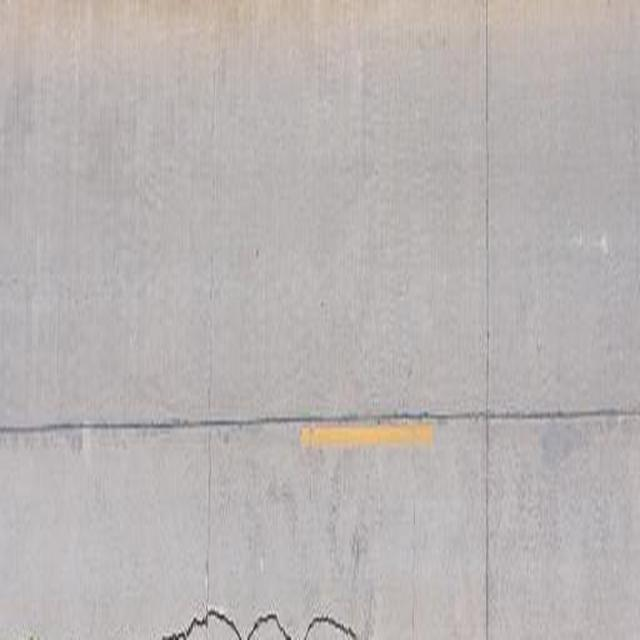minor crack: (42, 25, 95, 640), (346, 8, 382, 608), (3, 29, 38, 640), (158, 607, 352, 638), (256, 611, 284, 627), (12, 626, 42, 639)
moderate crack: (404, 0, 618, 440), (12, 407, 628, 434), (306, 0, 342, 354), (203, 25, 219, 620), (447, 416, 487, 640), (478, 15, 491, 621), (404, 403, 428, 640), (569, 226, 611, 258), (347, 528, 370, 582), (159, 633, 187, 640)
severe crack: (4, 421, 125, 434), (512, 407, 592, 419), (580, 410, 640, 424), (358, 608, 376, 640), (219, 428, 230, 444), (373, 416, 381, 424)
